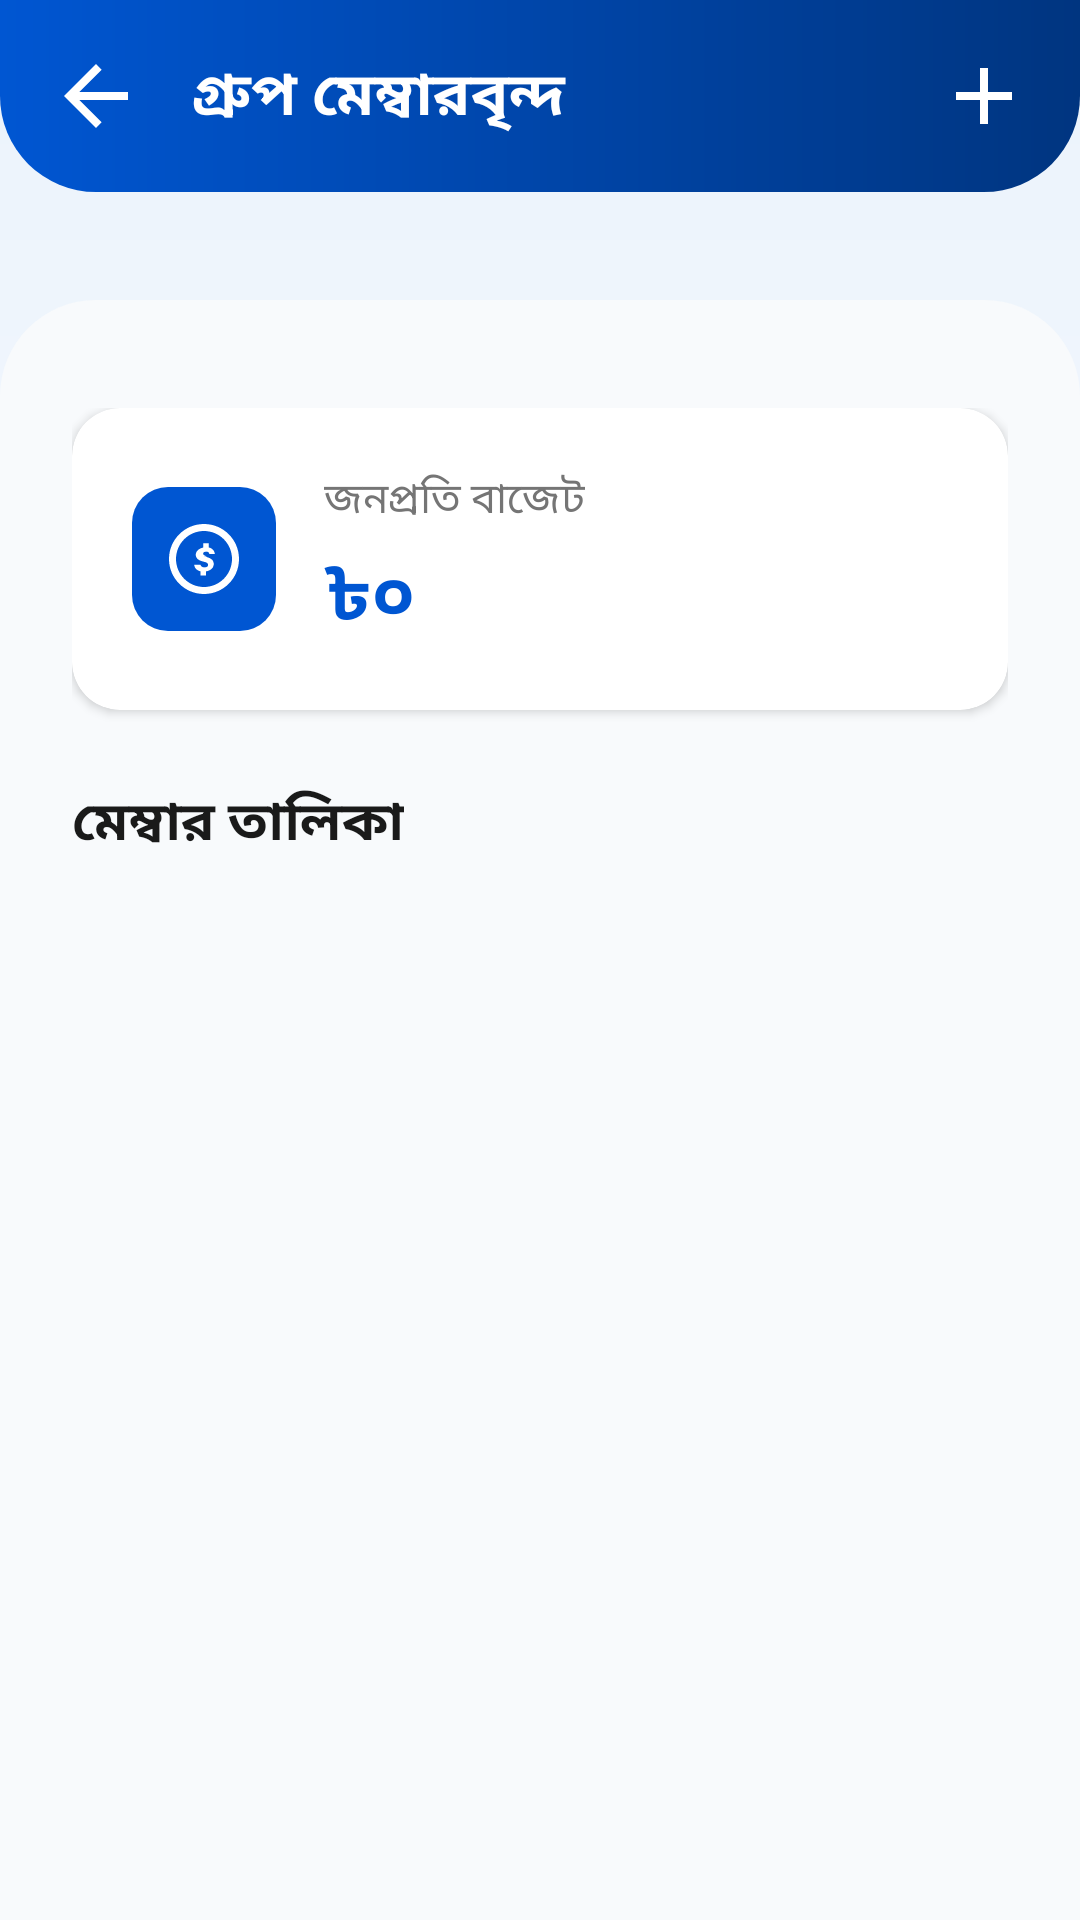

Screen size 1080 × 1920. Icon name, then its center in pixels as (x,y):
add: (984,96)
back: (96,96)
dashboard budget: (204,559)
